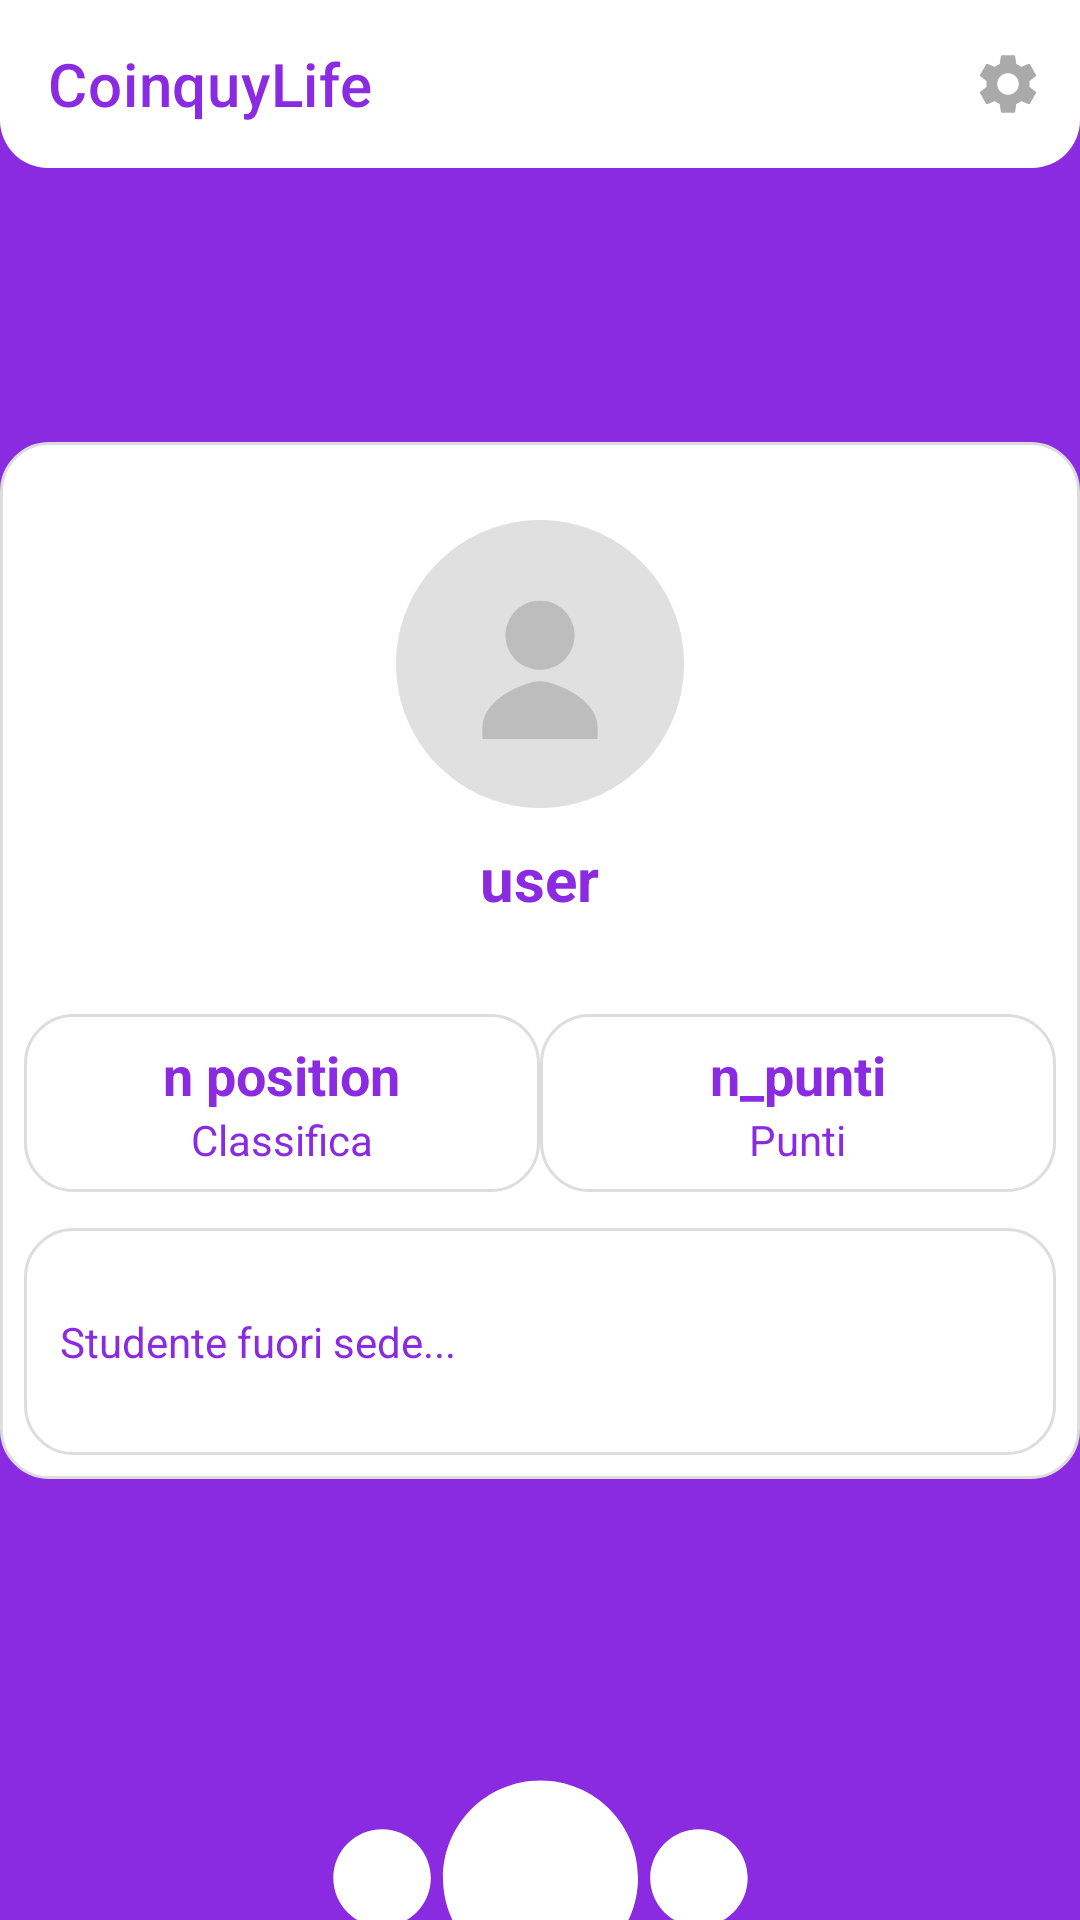

Icons on this 1080 x 1920 Android screen, each with the point to tap as point (x, y):
profile: point (540, 664)
